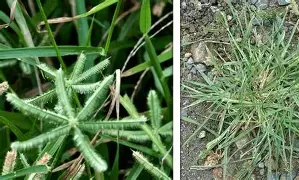weed: (0, 0, 172, 179), (183, 6, 298, 178)
